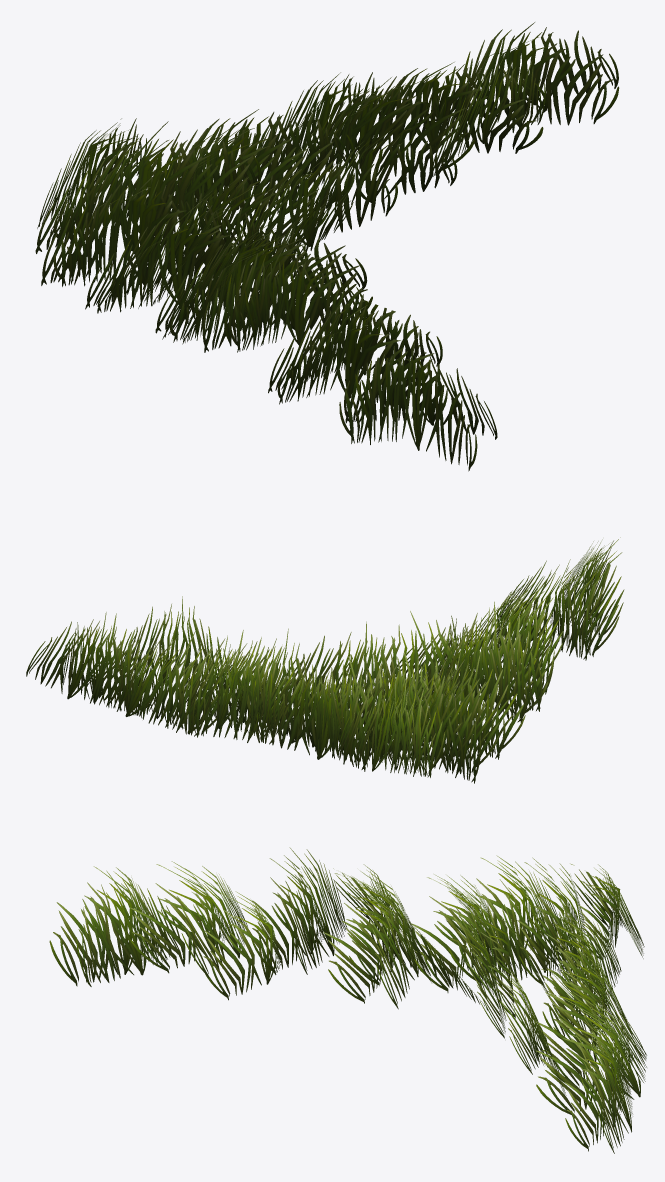
The model's file is grassKit_front_corner_dr.fbx.
The picture shows the model from 3 angles, top to bottom: view 1: azimuth 30°, elevation 25°; view 2: azimuth 150°, elevation 25°; view 3: azimuth 270°, elevation 25°; orthographic projection. The views are drawn at different scales.
Parts seen in each view (by area): view 1: grassKit_front_corner_dr; view 2: grassKit_front_corner_dr; view 3: grassKit_front_corner_dr.
Boxes of the visible parts, x1,y1,x2,y2 form: grassKit_front_corner_dr: (35, 22, 619, 471); grassKit_front_corner_dr: (26, 537, 624, 783); grassKit_front_corner_dr: (49, 847, 646, 1153).
Bounding box in the file's own units: 4.67 × 1.13 × 4.75.
